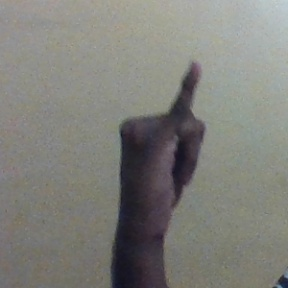I: (114, 56, 216, 212)
